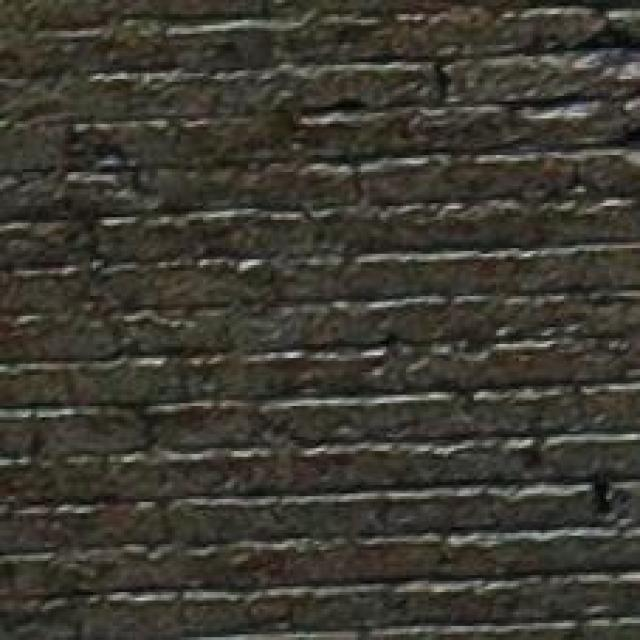Crack: (31, 0, 637, 189)
